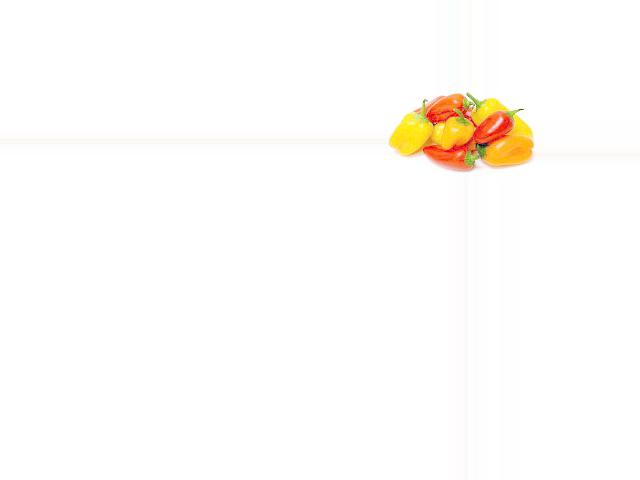bell_pepper: (471, 94, 532, 138)
